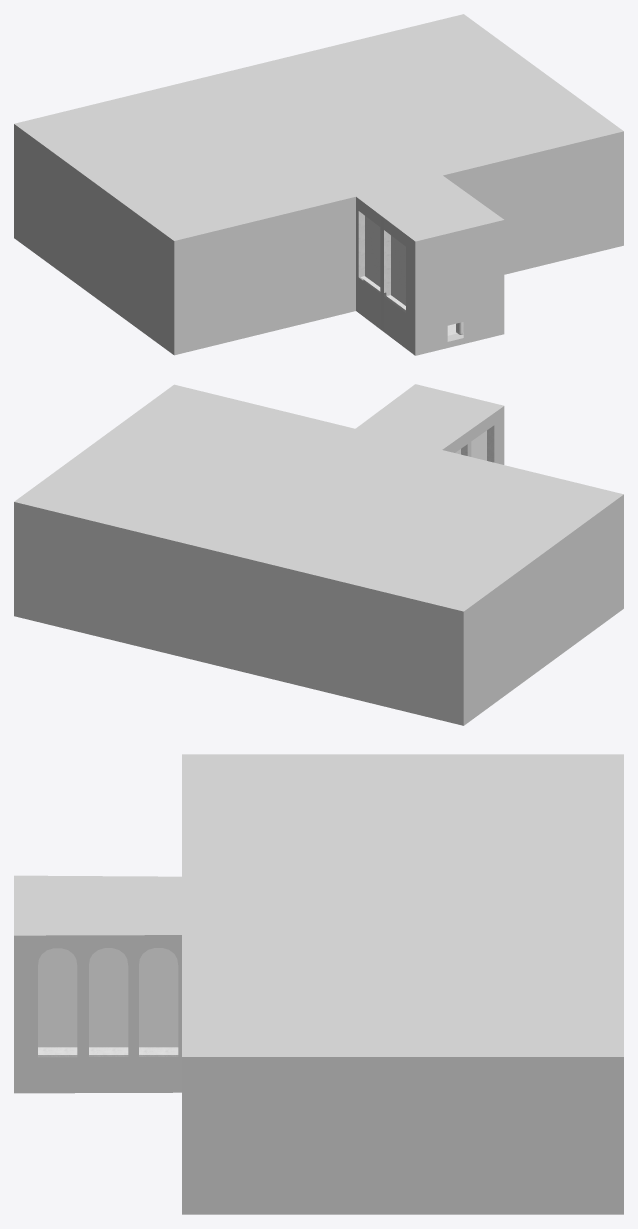
The model's file is Agency 1.fbx.
3 renders of one model, top to bottom at view 1: azimuth 30°, elevation 25°; view 2: azimuth 150°, elevation 25°; view 3: azimuth 270°, elevation 25°, orthographic. The views are drawn at different scales.
Parts seen in each view (by area): view 1: ProxyMesh, Cube.013, Cube.008; view 2: ProxyMesh; view 3: ProxyMesh, Cube.013, Cube.008.
Boxes of the visible parts, <box> form: ProxyMesh: <box>14,14,623,355</box>; Cube.013: <box>365,216,405,305</box>; Cube.008: <box>358,211,463,332</box>; ProxyMesh: <box>14,384,623,725</box>; ProxyMesh: <box>14,754,623,1214</box>; Cube.013: <box>38,948,178,1047</box>; Cube.008: <box>38,1047,178,1057</box>.
Size of the model in its own units: 16373 by 3977 by 13935.
